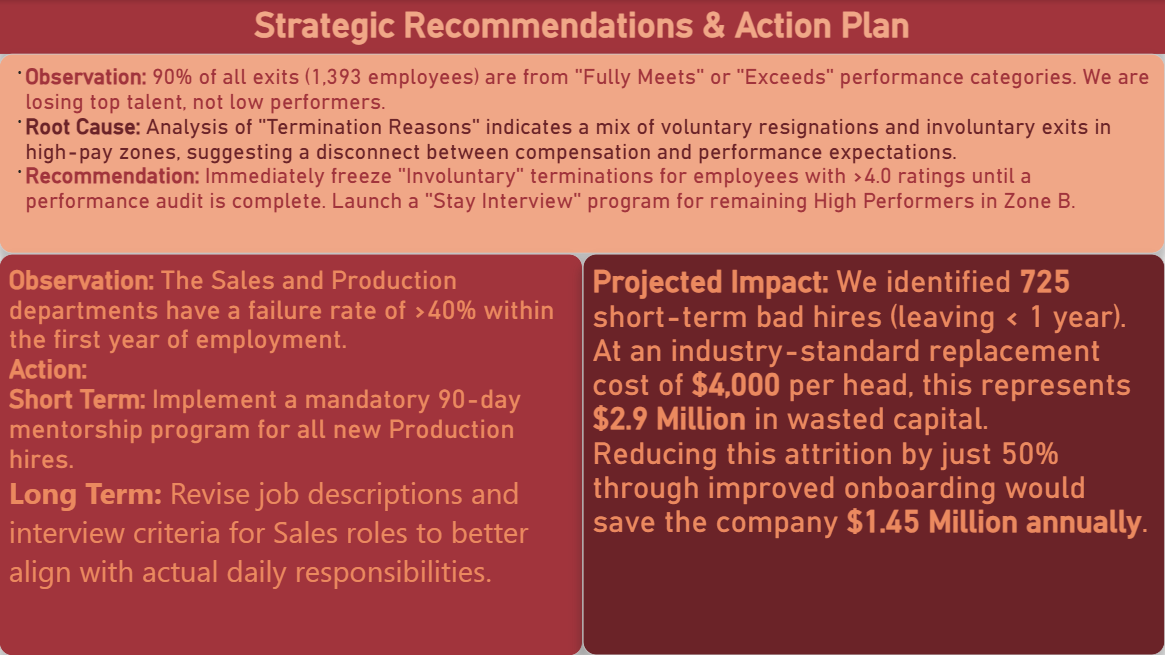

The page's visual inventory and layout, read from the dashboard file:
{"tool":"powerbi","page":{"name":"Page 3","canvas":[1280,720],"ordinal":2},"visuals":[{"type":"textbox","box":[0,0,1280.3,59],"z":0},{"type":"textbox","box":[0,59,1280.3,219.6],"z":1000},{"type":"textbox","box":[0,278.6,640.8,441.9],"z":1001},{"type":"textbox","box":[641,279,639,441],"z":1002}]}

Visuals, with their boxes in screenshot pixels (x1, y1, x2, y2), scaled from the page's 1280x720 canvas onto the 1165x655 screenshot:
textbox: box=[0, 0, 1164, 54]
textbox: box=[0, 54, 1164, 253]
textbox: box=[0, 253, 583, 654]
textbox: box=[583, 254, 1164, 654]
